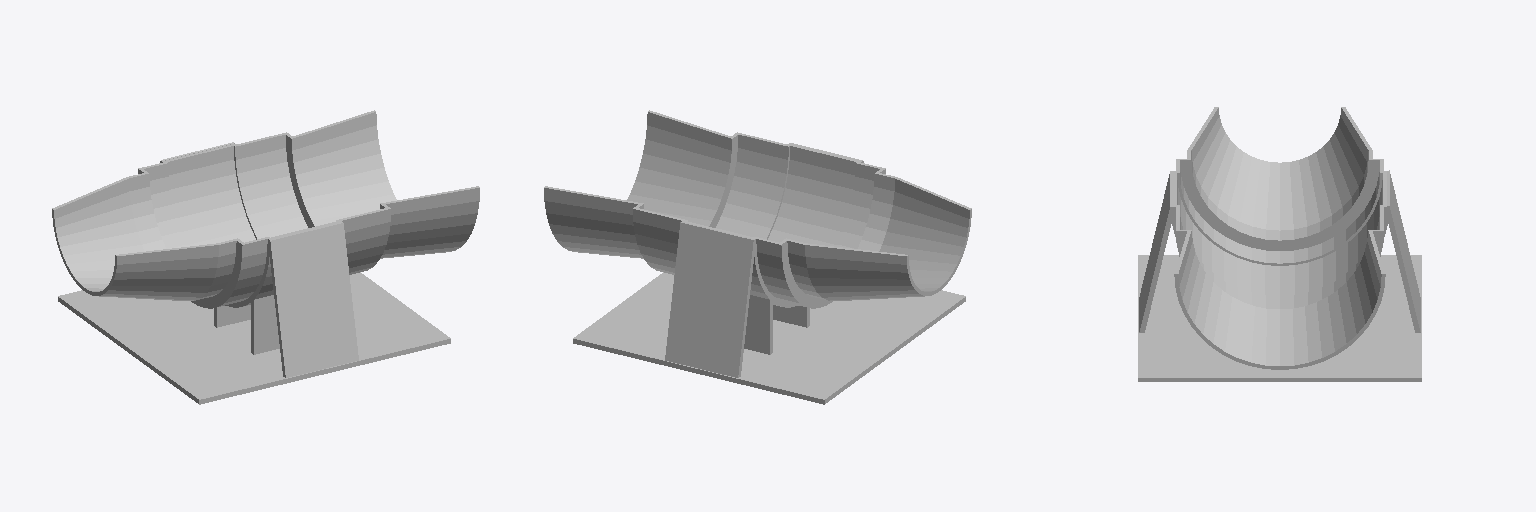
3 renders of one model, left to right at view 1: azimuth 30°, elevation 25°; view 2: azimuth 150°, elevation 25°; view 3: azimuth 270°, elevation 25°, orthographic.
Visible parts, largest first — view 1: Корпус; view 2: Корпус; view 3: Корпус.
Part boxes in pixels (x1,y1,x2,y2): Корпус: (52,110,479,404); Корпус: (544,110,971,404); Корпус: (1138,107,1421,381).
Size of the model in its own units: 150 by 54.91 by 107.